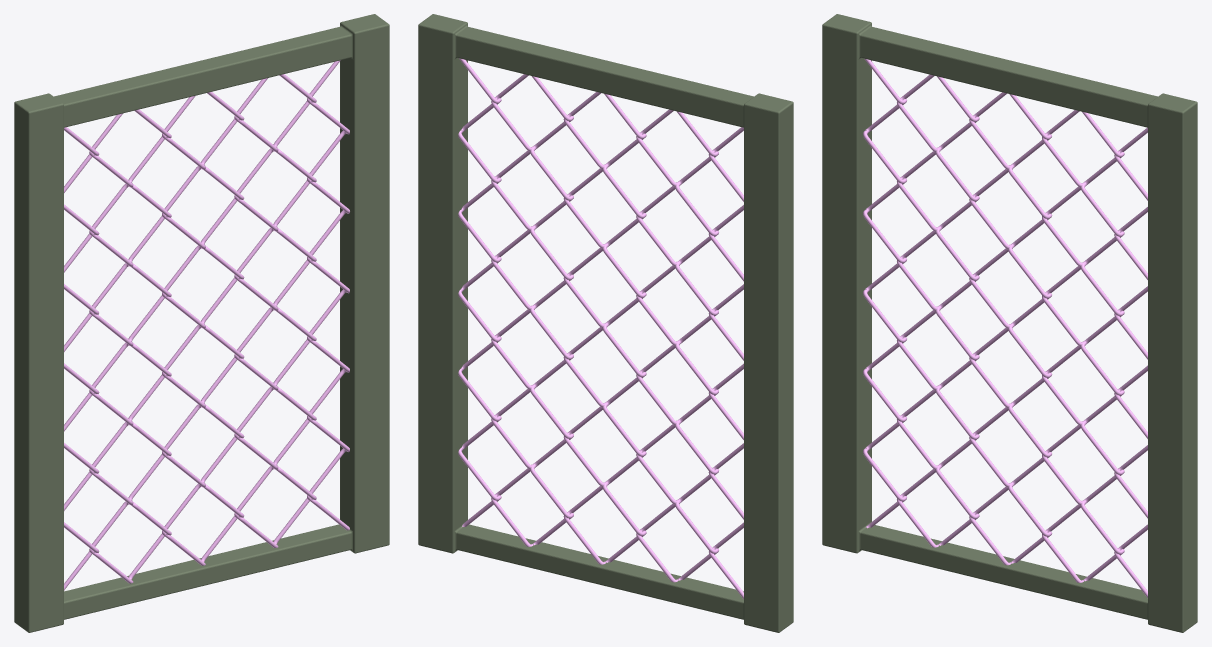
Rendered from Hurdle 6 Fence 03.fbx.
3 renders of one model, left to right at view 1: azimuth 30°, elevation 25°; view 2: azimuth 150°, elevation 25°; view 3: azimuth 330°, elevation 25°, orthographic.
Visible parts, largest first — view 1: Cube.001, Cube; view 2: Cube.001, Cube; view 3: Cube.001, Cube.
Boxes of the visible parts, x1=… form: Cube.001: x1=14, y1=14, x2=389, y2=632; Cube: x1=64, y1=60, x2=349, y2=590; Cube.001: x1=418, y1=14, x2=793, y2=632; Cube: x1=458, y1=58, x2=743, y2=598; Cube.001: x1=822, y1=14, x2=1197, y2=632; Cube: x1=863, y1=58, x2=1147, y2=597.
Bounding box in the file's own units: 1356 × 1868 × 98.02.
